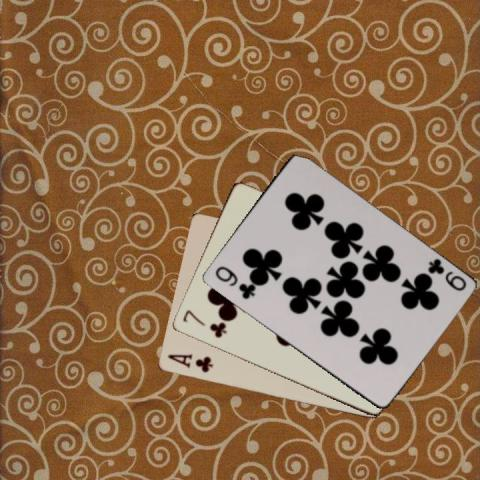7c: (179, 308, 228, 340)
9c: (211, 263, 256, 301), (424, 255, 468, 293)
Ac: (164, 351, 214, 374)
